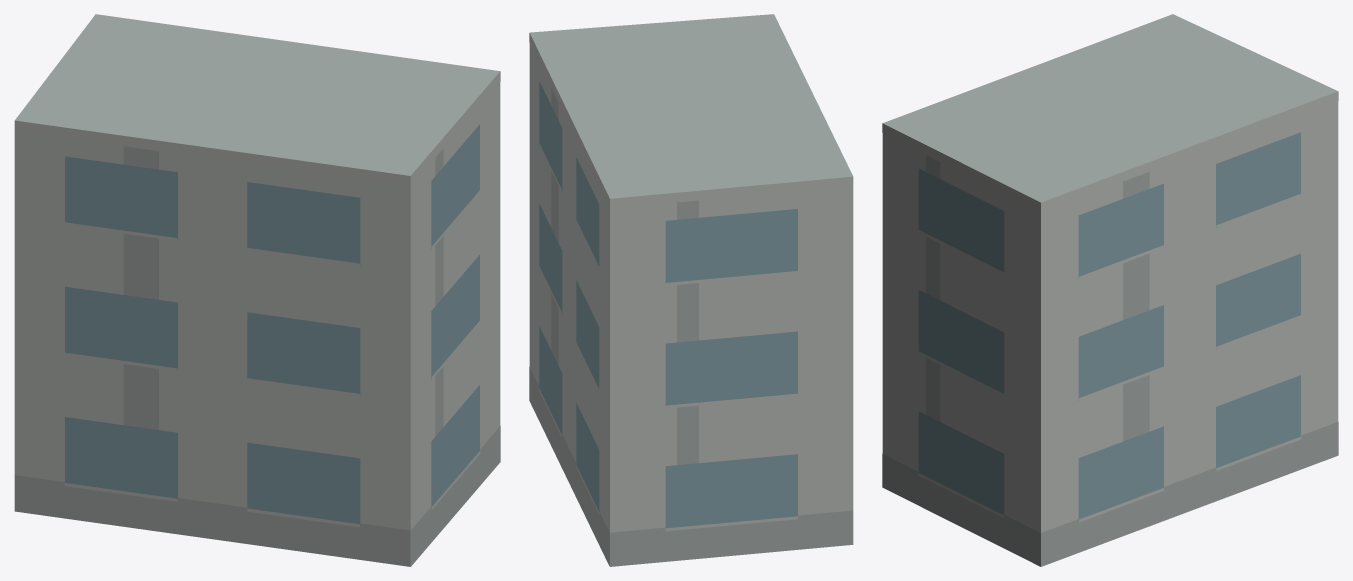
Rendered from survey-upis-32706633.glb.
3 renders of one model, left to right at view 1: azimuth 30°, elevation 25°; view 2: azimuth 150°, elevation 25°; view 3: azimuth 270°, elevation 25°, orthographic. The views are drawn at different scales.
Visible parts, largest first — view 1: survey-upis-32706633.tmp; view 2: survey-upis-32706633.tmp; view 3: survey-upis-32706633.tmp.
Part boxes in pixels (<box>): survey-upis-32706633.tmp: <box>14,14,500,566</box>; survey-upis-32706633.tmp: <box>529,14,853,566</box>; survey-upis-32706633.tmp: <box>882,14,1338,566</box>.
Size of the model in its own units: 10.17 by 9.15 by 10.39.
